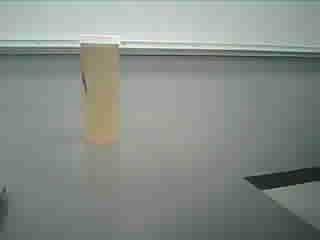Bottle A: (70, 29, 132, 150)
